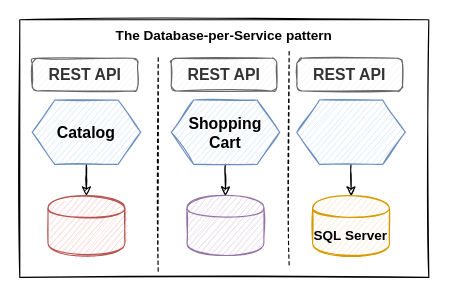
Image size: 449x297. Some labels were removed from this diagram. The centre of each missing label's shape, as x and y in pixels:
MongoDb: the point at 86,225
Ordering: the point at 350,131
Redis: the point at 225,225
